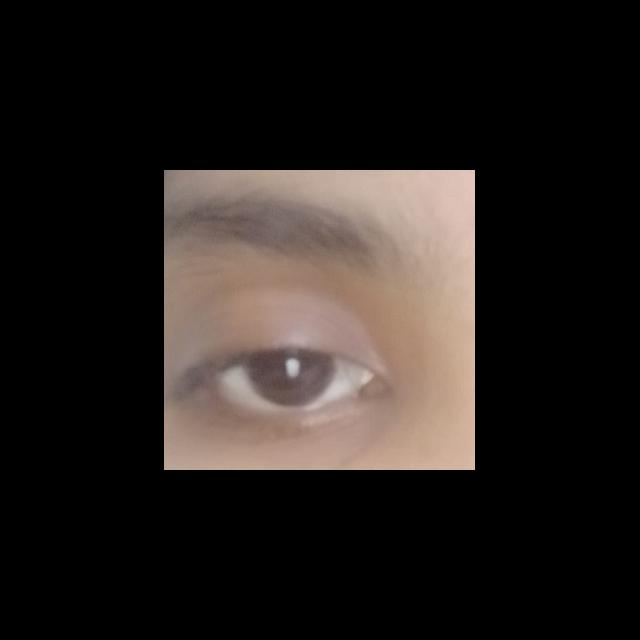eye: (217, 349, 372, 412)
iris: (246, 352, 336, 407)
